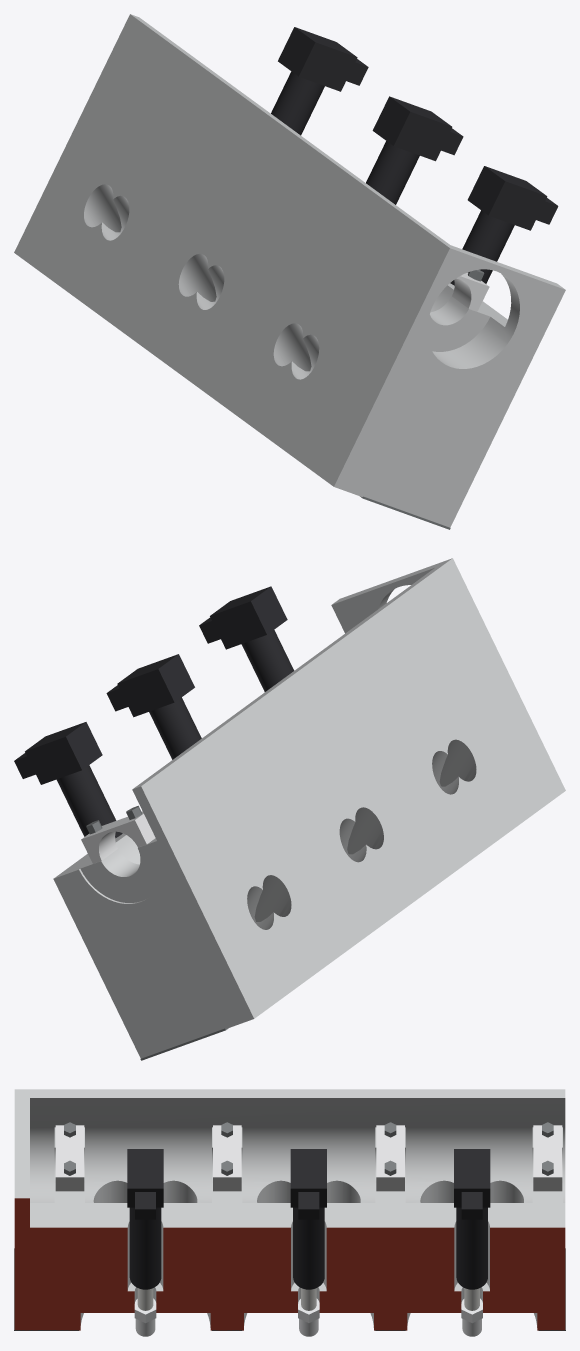
File: head_R.glb
The picture shows the model from 3 angles, top to bottom: view 1: azimuth 30°, elevation 25°; view 2: azimuth 150°, elevation 25°; view 3: azimuth 270°, elevation 25°; orthographic projection. The views are drawn at different scales.
Parts seen in each view (by area): view 1: alu_cast_1, black_6, alu_mach_2; view 2: alu_cast_1, black_6, alu_mach_2; view 3: alu_cast_1, section_0, black_6, alu_mach_2, polished_4, darksteel_3, ceramic_5.
Part boxes in pixels (x1,y1,x2,y2): alu_cast_1: (14,14,565,527); black_6: (271,27,558,285); alu_mach_2: (452,272,489,311); alu_cast_1: (53,558,565,1058); black_6: (14,586,294,838); alu_mach_2: (81,811,155,863); alu_cast_1: (14,1089,565,1327); section_0: (14,1198,565,1330); black_6: (127,1149,490,1289); alu_mach_2: (55,1125,562,1191); polished_4: (134,1298,482,1336); darksteel_3: (14,1122,565,1330); ceramic_5: (137,1288,479,1310).
Size of the model in its own units: 0.1935 by 0.1776 by 0.365.
